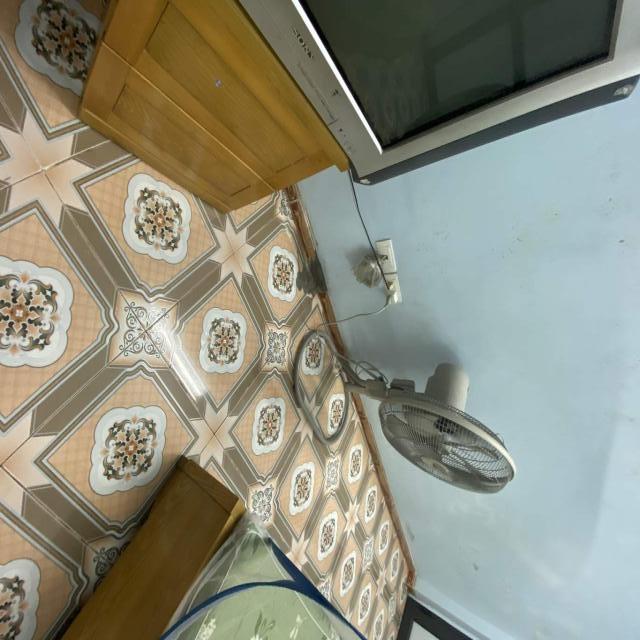outlet: (376, 238, 397, 273), (383, 274, 403, 305)
